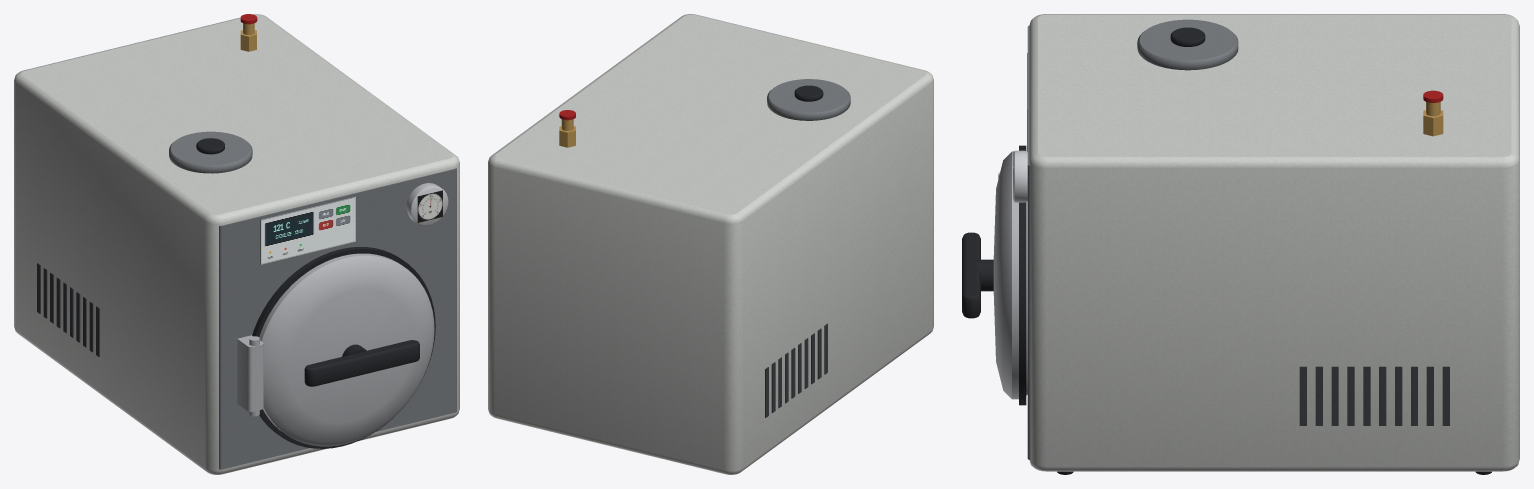
File: autoclave.glb
The picture shows the model from 3 angles, left to right: view 1: azimuth 30°, elevation 25°; view 2: azimuth 150°, elevation 25°; view 3: azimuth 270°, elevation 25°; orthographic projection. The views are drawn at different scales.
Visible parts, largest first — view 1: Autoclave housing, Door, Front fascia, Control panel, Door gasket ring, Side vents, Pressure gauge, Top fittings; view 2: Autoclave housing, Control panel, Side vents, Top fittings; view 3: Autoclave housing, Door, Side vents, Door gasket ring, Control panel, Front fascia, Top fittings, Pressure gauge.
Boxes of the visible parts, x1,y1,x2,y2 form: Autoclave housing: (14, 14, 459, 474); Door: (237, 253, 434, 446); Front fascia: (219, 168, 456, 469); Control panel: (169, 131, 355, 264); Door gasket ring: (196, 138, 435, 448); Side vents: (37, 263, 99, 357); Pressure gauge: (406, 183, 448, 225); Top fittings: (240, 14, 257, 51); Autoclave housing: (488, 14, 933, 474); Control panel: (767, 79, 850, 120); Side vents: (765, 323, 827, 417); Top fittings: (559, 110, 575, 147); Autoclave housing: (1029, 14, 1519, 471); Door: (993, 151, 1027, 399); Side vents: (1299, 366, 1449, 425); Door gasket ring: (962, 27, 1205, 405); Control panel: (1027, 19, 1238, 151); Front fascia: (1027, 26, 1030, 459); Top fittings: (1423, 90, 1443, 136); Pressure gauge: (1013, 150, 1027, 202).
Size of the model in its own units: 0.4932 by 0.55 by 0.773.
Materials: 12 (12 with a texture image).
